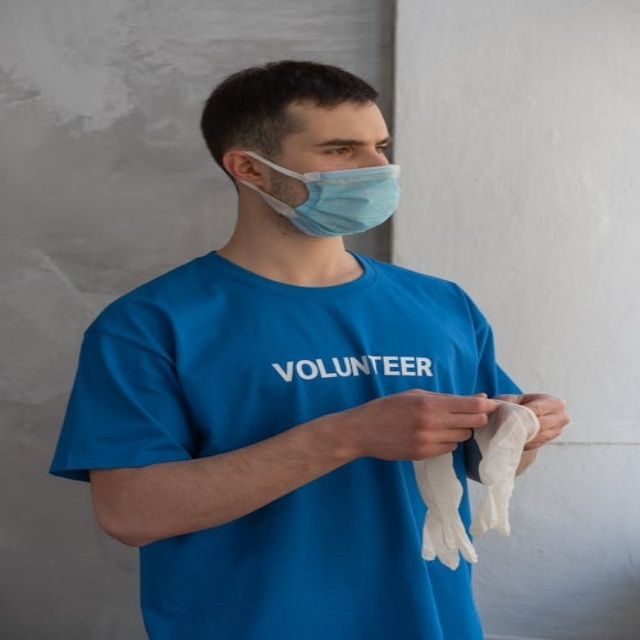Mascara: (236, 150, 402, 236)
Sin_gafas: (293, 129, 396, 161)
Sin_guantes: (346, 387, 506, 462), (485, 390, 569, 466)
